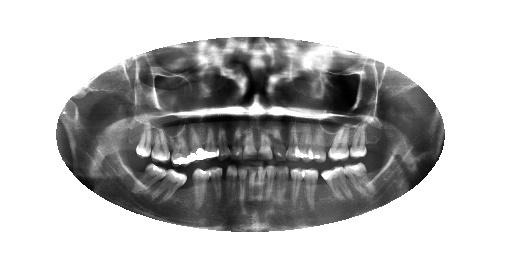i10decay: (222, 160, 239, 211)
i11healthy: (204, 162, 225, 211)
i12healthy: (188, 165, 212, 212)
i13healthy: (150, 169, 191, 206)
i14healthy: (128, 158, 168, 201)
i2healthy: (342, 159, 374, 197)
i3healthy: (319, 165, 354, 204)
i4healthy: (301, 163, 320, 213)
i5healthy: (288, 163, 307, 211)
i6healthy: (273, 161, 291, 213)
i7healthy: (263, 159, 277, 212)
i8healthy: (246, 161, 259, 209), (255, 159, 266, 212)
i9healthy: (234, 162, 251, 211)
u10decay: (229, 119, 244, 164)
u11healthy: (213, 119, 233, 165)
u12healthy: (200, 119, 221, 164)
u13healthy: (185, 121, 206, 167)
u14healthy: (167, 113, 194, 170)
u15healthy: (147, 119, 173, 164)
u16healthy: (133, 118, 157, 160)
u1loss: (364, 119, 385, 156)
u2healthy: (349, 118, 369, 161)
u3healthy: (324, 117, 355, 164)
u4healthy: (306, 118, 330, 166)
u5healthy: (293, 121, 316, 164)
u6healthy: (284, 121, 305, 167)
u7decay: (270, 117, 289, 166)
u8decay: (256, 115, 274, 164)
u9decay: (238, 116, 259, 163)
